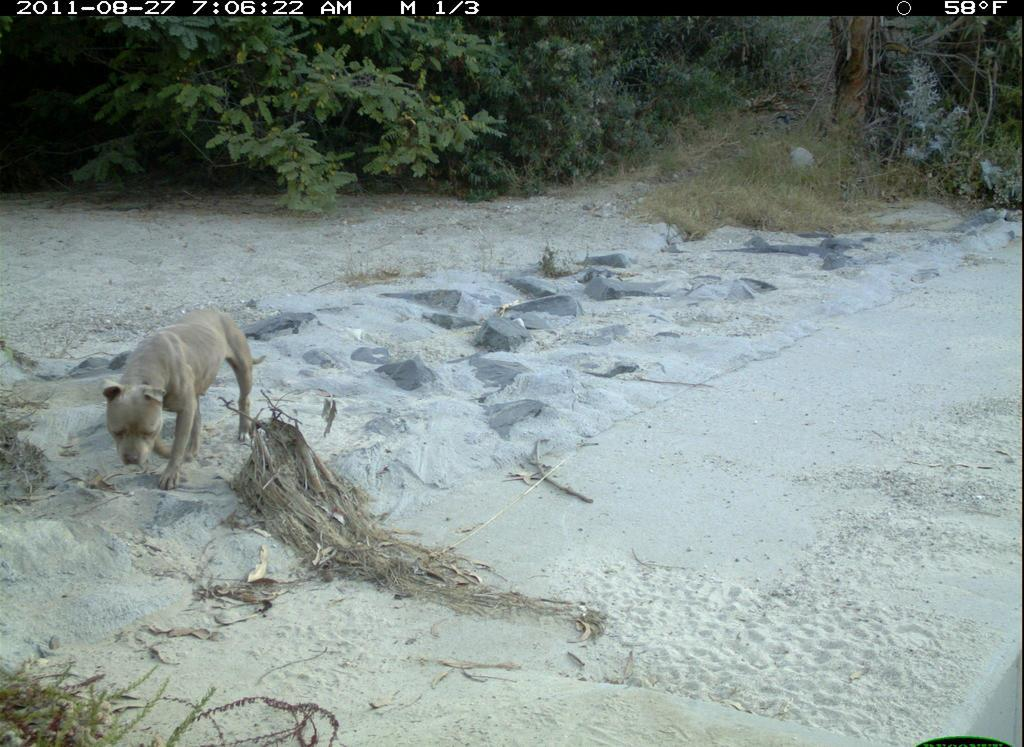dog: (86, 268, 292, 492)
